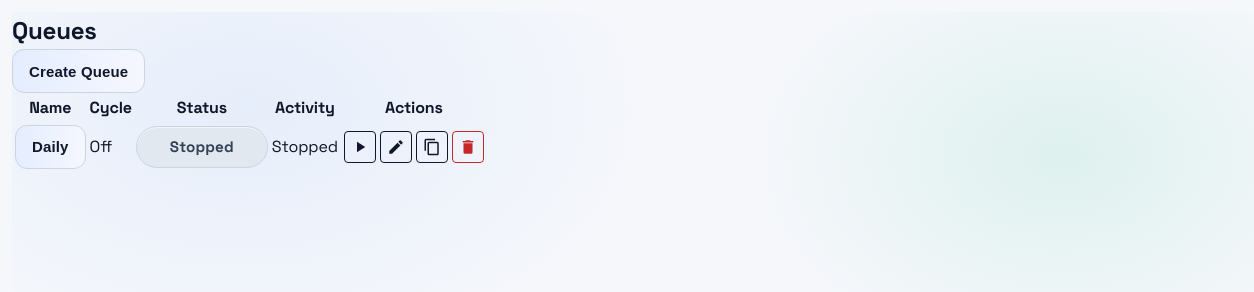
Test: QueuesPage start/stop › surfaces a start failure (e.g. already running) to the operator
Expected: the button "Daily" is shown, [15,125,86,169]
Click the button named "Start Daily": click(360, 147) [344,131,376,163]
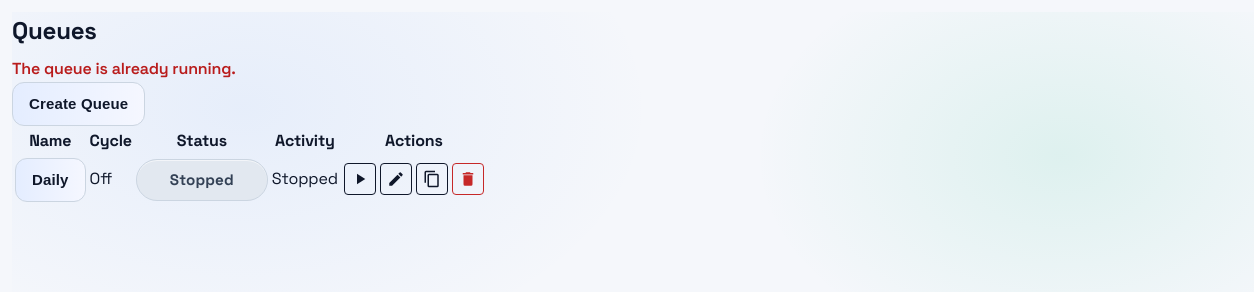
Expected: the message shows "already running", [12,58,236,79]
